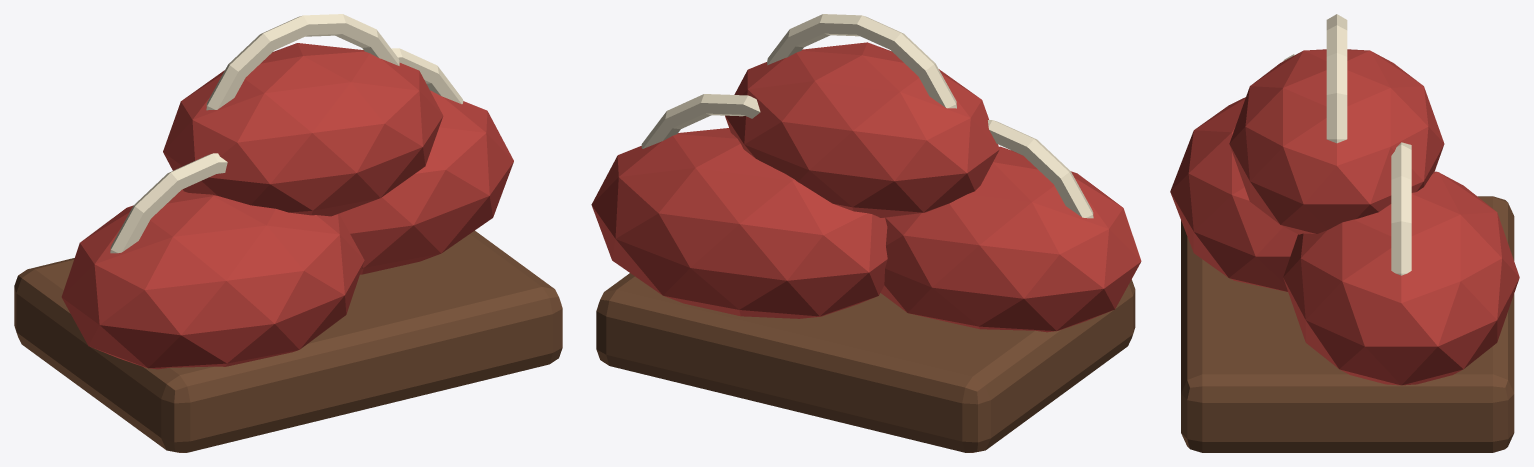
File: economy_cargo_meat_v01.glb
The picture shows the model from 3 angles, left to right: view 1: azimuth 30°, elevation 25°; view 2: azimuth 150°, elevation 25°; view 3: azimuth 270°, elevation 25°; orthographic projection. The views are drawn at different scales.
Visible parts, largest first — view 1: GEO_MeatTray, GEO_MeatCut_0, GEO_MeatCut_2, GEO_MeatCut_1, GEO_MeatFat_2, GEO_MeatFat_0, GEO_MeatFat_1; view 2: GEO_MeatTray, GEO_MeatCut_1, GEO_MeatCut_2, GEO_MeatCut_0, GEO_MeatFat_2, GEO_MeatFat_0, GEO_MeatFat_1; view 3: GEO_MeatTray, GEO_MeatCut_1, GEO_MeatCut_2, GEO_MeatCut_0, GEO_MeatFat_2, GEO_MeatFat_1.
Boxes of the visible parts, bbox=[...] form: GEO_MeatTray: bbox=[14, 230, 562, 452]; GEO_MeatCut_0: bbox=[61, 189, 364, 369]; GEO_MeatCut_2: bbox=[163, 43, 443, 216]; GEO_MeatCut_1: bbox=[339, 90, 513, 274]; GEO_MeatFat_2: bbox=[206, 14, 399, 110]; GEO_MeatFat_0: bbox=[110, 153, 227, 253]; GEO_MeatFat_1: bbox=[361, 48, 463, 104]; GEO_MeatTray: bbox=[596, 273, 1135, 452]; GEO_MeatCut_1: bbox=[591, 128, 887, 318]; GEO_MeatCut_2: bbox=[725, 42, 999, 217]; GEO_MeatCut_0: bbox=[880, 146, 1141, 332]; GEO_MeatFat_2: bbox=[767, 14, 956, 108]; GEO_MeatFat_0: bbox=[988, 120, 1093, 218]; GEO_MeatFat_1: bbox=[641, 94, 760, 148]; GEO_MeatTray: bbox=[1181, 196, 1514, 452]; GEO_MeatCut_1: bbox=[1283, 171, 1519, 385]; GEO_MeatCut_2: bbox=[1229, 49, 1444, 234]; GEO_MeatCut_0: bbox=[1170, 97, 1297, 291]; GEO_MeatFat_2: bbox=[1326, 14, 1347, 143]; GEO_MeatFat_1: bbox=[1391, 142, 1411, 275].
Size of the model in its own units: 1.01 by 0.7036 by 0.65.
